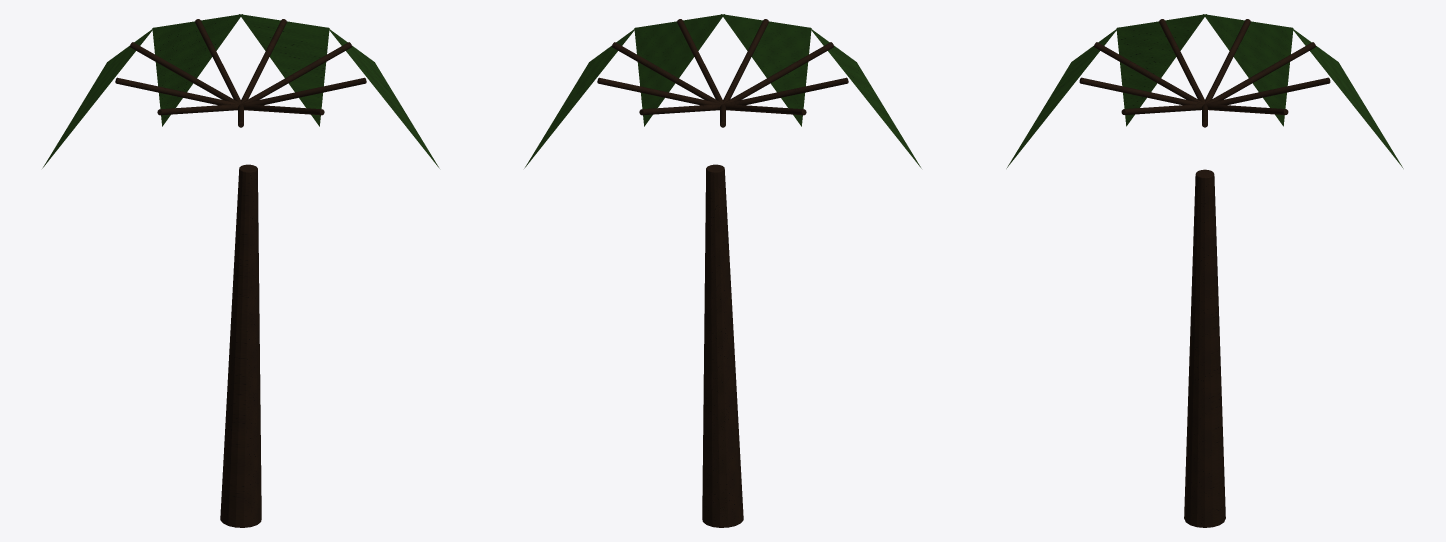
Rendered from PROP-51390D05C8EC_lod0.glb.
3 views of the same model, side by side, from view 1: azimuth 30°, elevation 25°; view 2: azimuth 150°, elevation 25°; view 3: azimuth 270°, elevation 25° (orthographic).
Parts seen in each view (by area): view 1: trunk.022, palm_frond, palm_frond_spine; view 2: trunk.022, palm_frond, palm_frond_spine; view 3: trunk.022, palm_frond, palm_frond_spine.
Boxes of the visible parts, x1=… form: trunk.022: x1=220, y1=164, x2=261, y2=527; palm_frond: x1=42, y1=14, x2=439, y2=168; palm_frond_spine: x1=115, y1=19, x2=366, y2=127; trunk.022: x1=702, y1=164, x2=743, y2=527; palm_frond: x1=524, y1=14, x2=921, y2=168; palm_frond_spine: x1=597, y1=19, x2=848, y2=127; trunk.022: x1=1184, y1=169, x2=1225, y2=527; palm_frond: x1=1006, y1=14, x2=1403, y2=168; palm_frond_spine: x1=1079, y1=19, x2=1330, y2=127.
Bounding box in the file's own units: 5.12 × 5.71 × 5.2.
2 materials, 2 textured.
